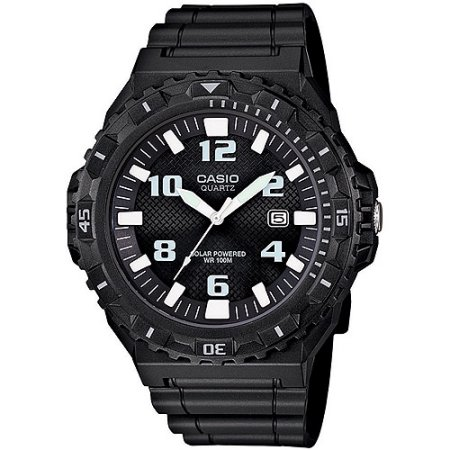clock: (65, 70, 368, 367)
